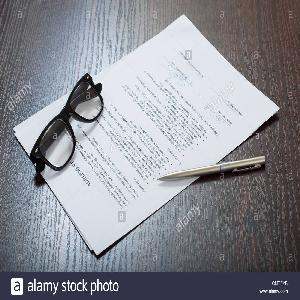pen: (152, 154, 272, 181)
